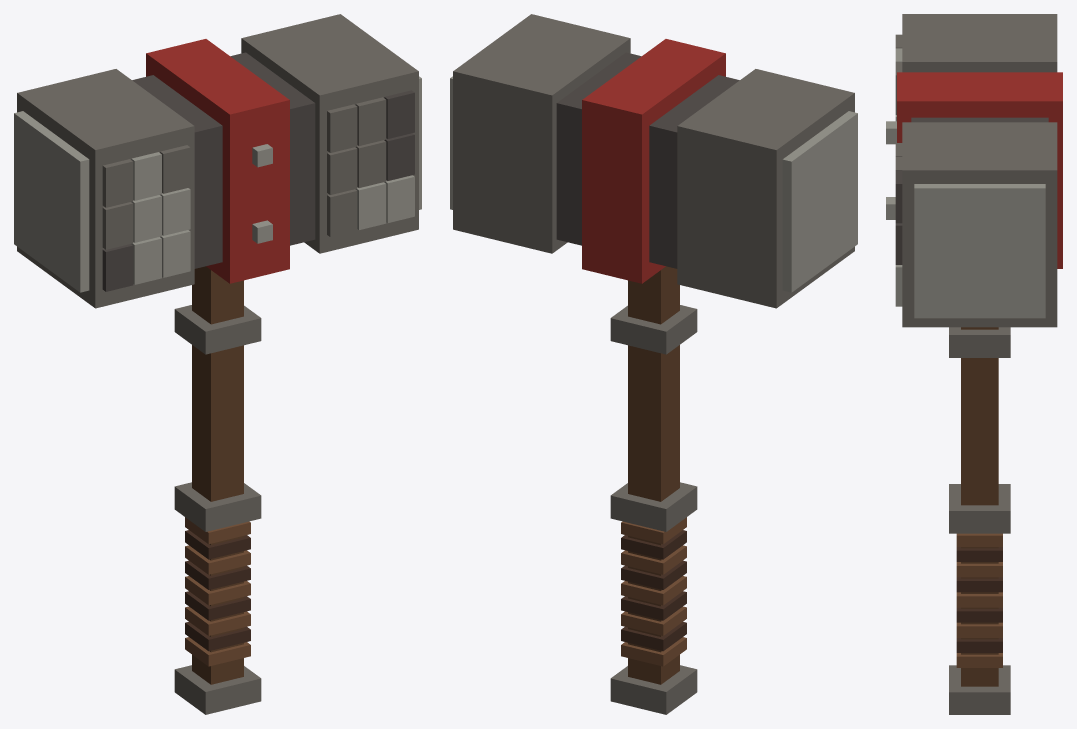
Rendered from Warhammer.fbx.
The picture shows the model from 3 angles, left to right: view 1: azimuth 30°, elevation 25°; view 2: azimuth 150°, elevation 25°; view 3: azimuth 270°, elevation 25°; orthographic projection.
Visible parts, largest first — view 1: Warhammer_Mesh; view 2: Warhammer_Mesh; view 3: Warhammer_Mesh.
Part boxes in pixels (x1,y1,x2,y2): Warhammer_Mesh: (14, 14, 421, 714); Warhammer_Mesh: (450, 14, 857, 714); Warhammer_Mesh: (886, 14, 1062, 714).
Size of the model in its own units: 0.655 by 1.14 by 0.296.
